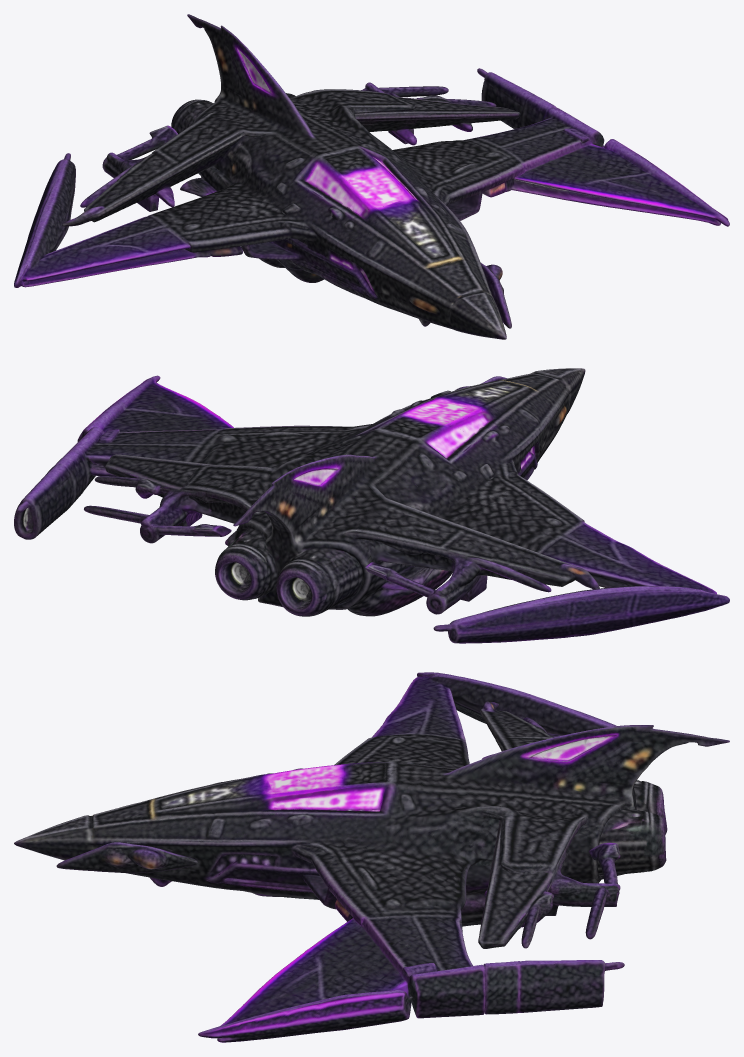
Rendered from riftwing.glb.
3 views of the same model, one above another, from view 1: azimuth 30°, elevation 25°; view 2: azimuth 150°, elevation 25°; view 3: azimuth 270°, elevation 25° (orthographic). The views are drawn at different scales.
Parts seen in each view (by area): view 1: riftwing; view 2: riftwing; view 3: riftwing.
Part boxes in pixels (x1,y1,x2,y2): riftwing: (14, 14, 729, 339); riftwing: (14, 368, 729, 643); riftwing: (14, 672, 729, 1042).
Bounding box in the file's own units: 15.8 × 3.91 × 14.
1 material, 1 textured.
